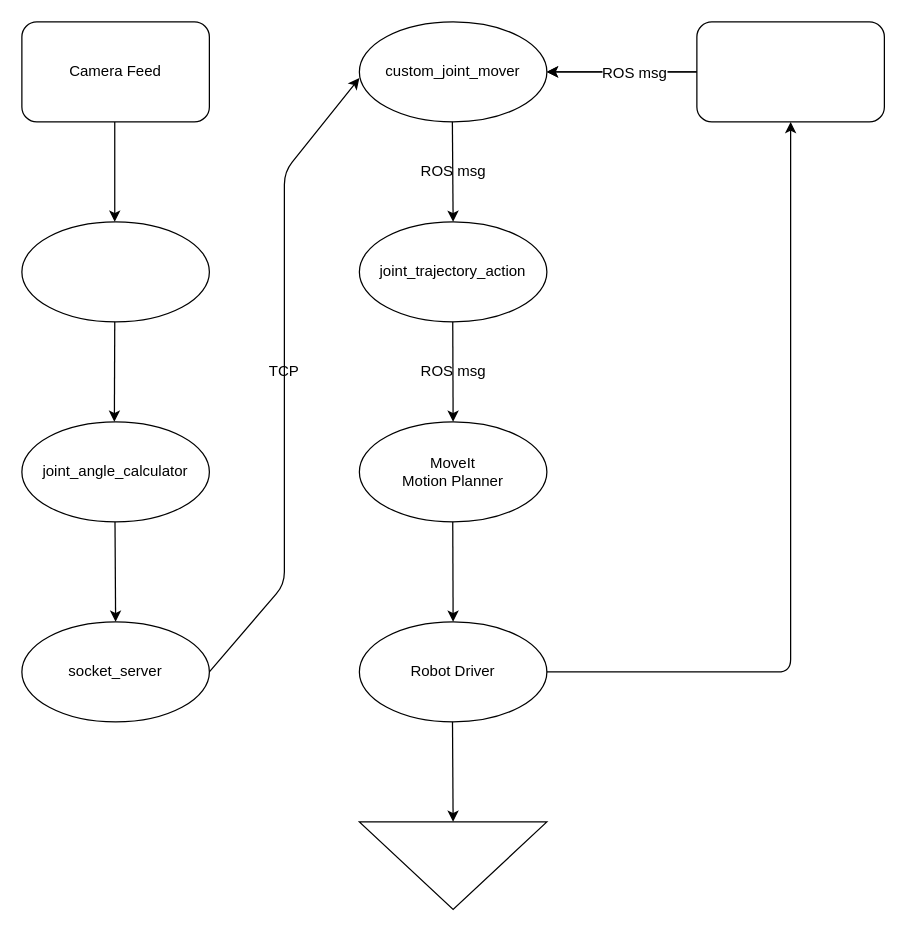
Image size: 906x931. Some labels were removed from this diagram. The shapes that lost their labels are listed below. From the top down, each one's centre as x and y in pixels, then its label:
[790,71]: joint_states
[115,271]: 3D Human Pose Estimation Model
[452,865]: Robot
